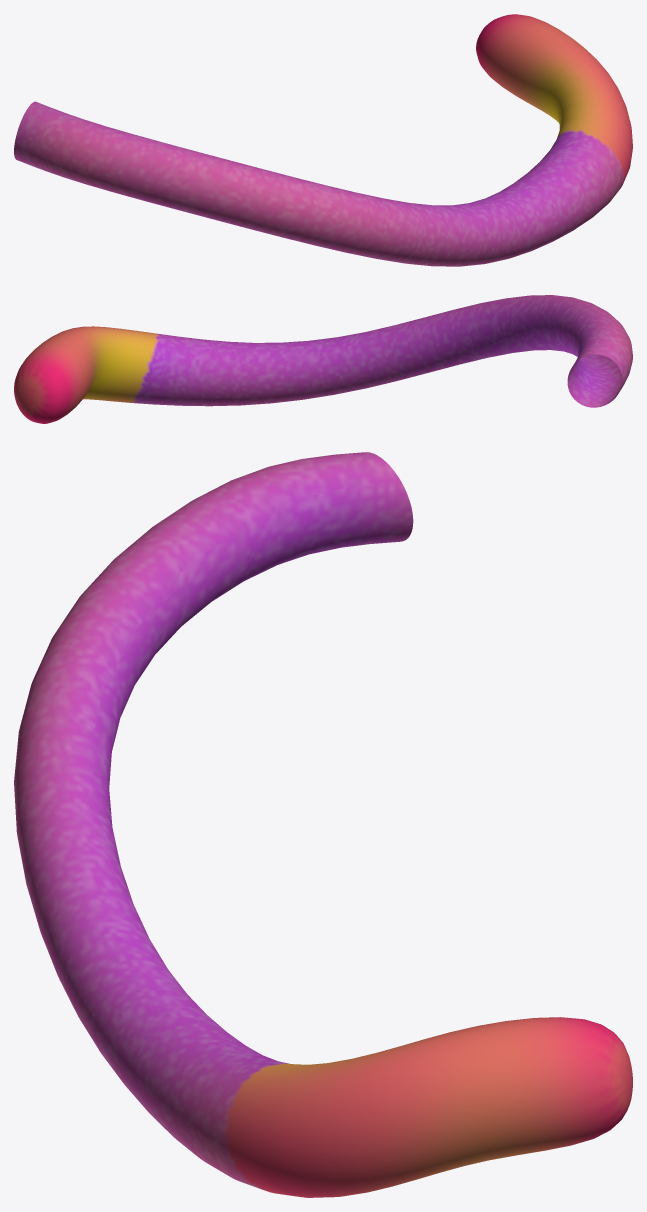
3 renders of one model, top to bottom at view 1: azimuth 30°, elevation 25°; view 2: azimuth 150°, elevation 25°; view 3: azimuth 270°, elevation 25°, orthographic. The views are drawn at different scales.
Parts seen in each view (by area): view 1: BezierCurve.019; view 2: BezierCurve.019; view 3: BezierCurve.019.
Boxes of the visible parts, x1=… form: BezierCurve.019: x1=14, y1=14, x2=632, y2=266; BezierCurve.019: x1=14, y1=295, x2=632, y2=423; BezierCurve.019: x1=14, y1=452, x2=632, y2=1197.
Size of the model in its own units: 3.5 by 1.12 by 1.92.
1 material, 1 textured.
